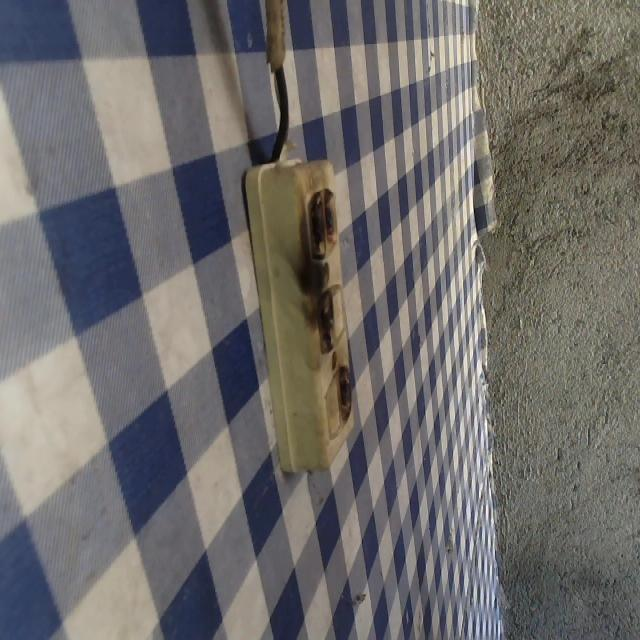-: (297, 181, 341, 264), (310, 282, 338, 358), (333, 360, 354, 431)
